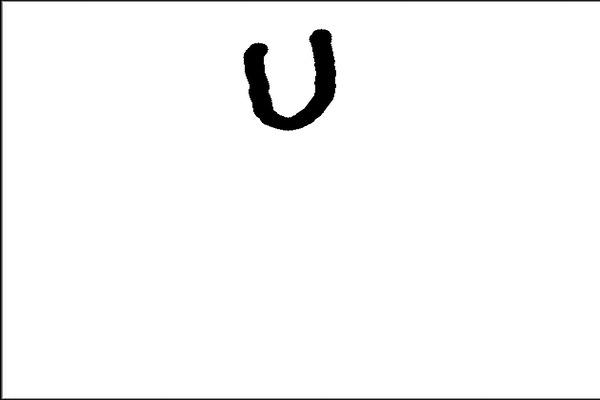U: (229, 16, 355, 136)
